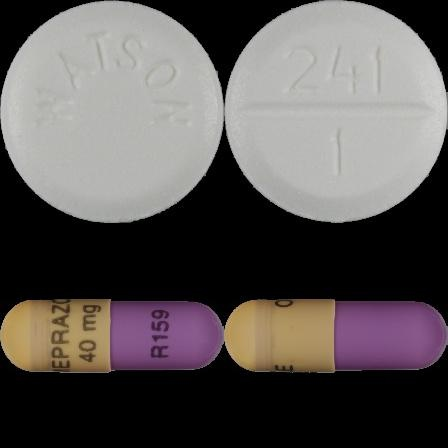42549-655: (0, 0, 224, 224)
